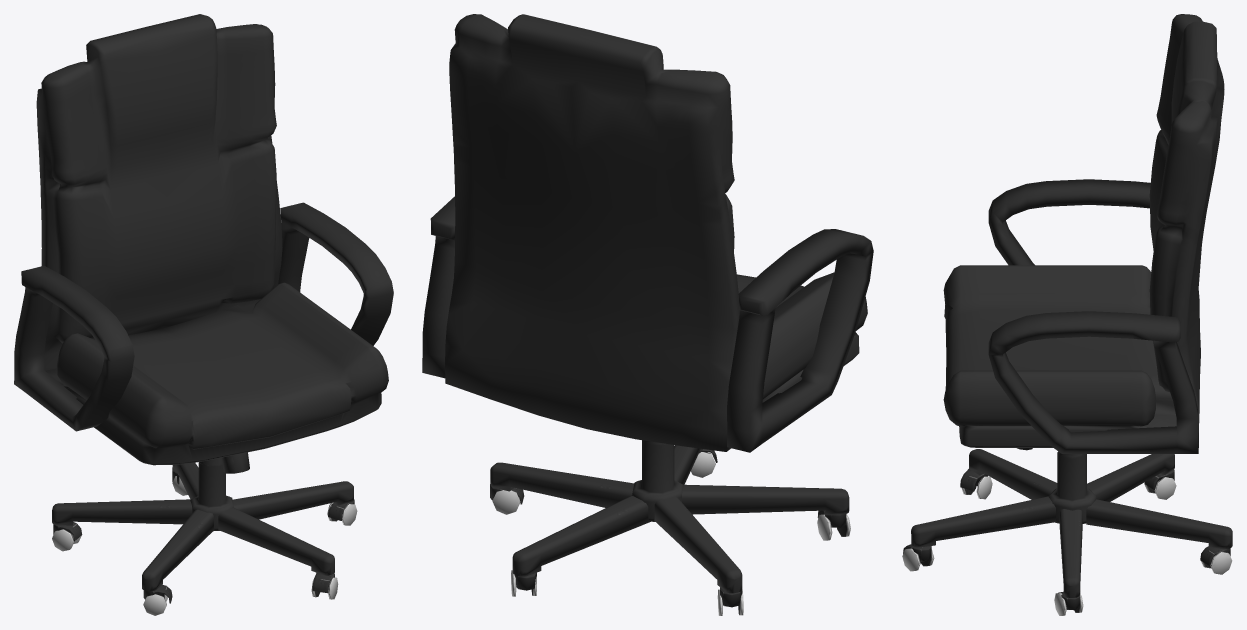
File: execchair.glb
The picture shows the model from 3 angles, left to right: view 1: azimuth 30°, elevation 25°; view 2: azimuth 150°, elevation 25°; view 3: azimuth 270°, elevation 25°; orthographic projection. The views are drawn at different scales.
Visible parts, largest first — view 1: Wheel_LP3_lambert1_0; view 2: Wheel_LP3_lambert1_0; view 3: Wheel_LP3_lambert1_0.
Boxes of the visible parts, x1,y1,x2,y2 form: Wheel_LP3_lambert1_0: [14, 14, 393, 615]; Wheel_LP3_lambert1_0: [422, 14, 873, 615]; Wheel_LP3_lambert1_0: [902, 14, 1232, 615].
Size of the model in its own units: 0.9744 by 1.58 by 0.946.
1 material, 1 textured.
